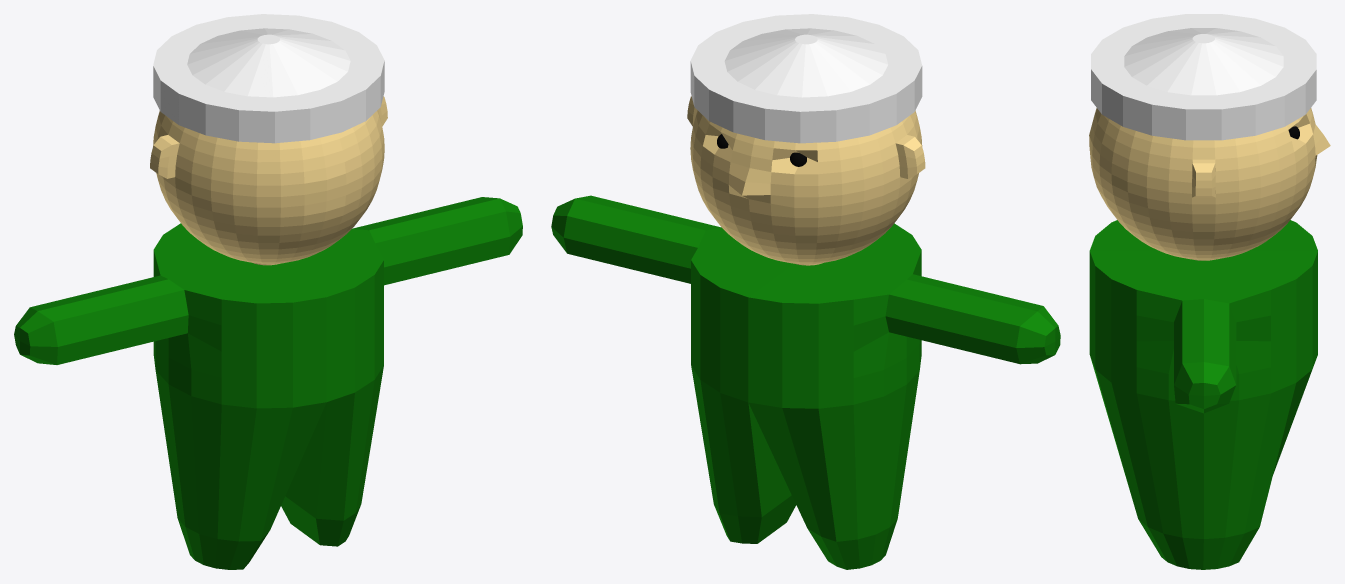
The model's file is men.fbx.
3 renders of one model, left to right at view 1: azimuth 30°, elevation 25°; view 2: azimuth 150°, elevation 25°; view 3: azimuth 270°, elevation 25°, orthographic.
Parts seen in each view (by area): view 1: Body, Hat, Head; view 2: Body, Hat, Head; view 3: Body, Hat, Head.
Boxes of the visible parts, x1=… form: Body: x1=14, y1=197, x2=522, y2=569; Hat: x1=153, y1=14, x2=384, y2=143; Head: x1=150, y1=96, x2=387, y2=265; Body: x1=551, y1=195, x2=1060, y2=569; Hat: x1=690, y1=14, x2=922, y2=143; Head: x1=687, y1=96, x2=925, y2=265; Body: x1=1089, y1=220, x2=1317, y2=569; Hat: x1=1091, y1=14, x2=1316, y2=140; Head: x1=1089, y1=108, x2=1330, y2=260.
Size of the model in its own units: 496 by 479 by 212.
